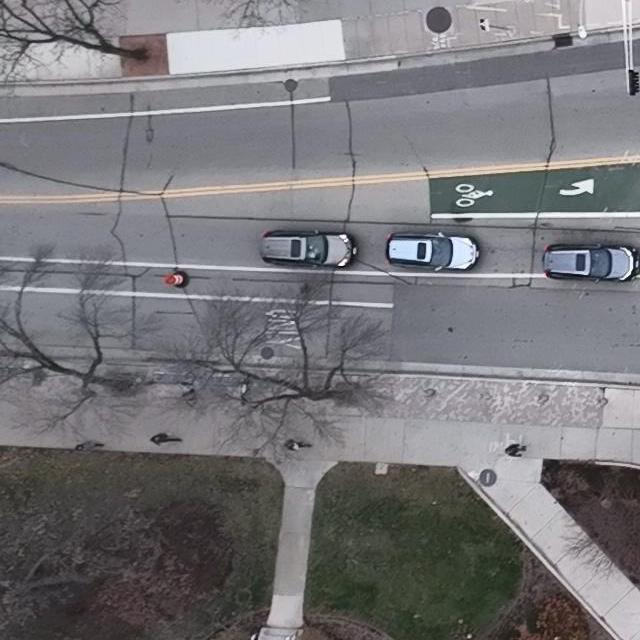car: (387, 230, 481, 273), (541, 243, 640, 283), (262, 228, 357, 268)
